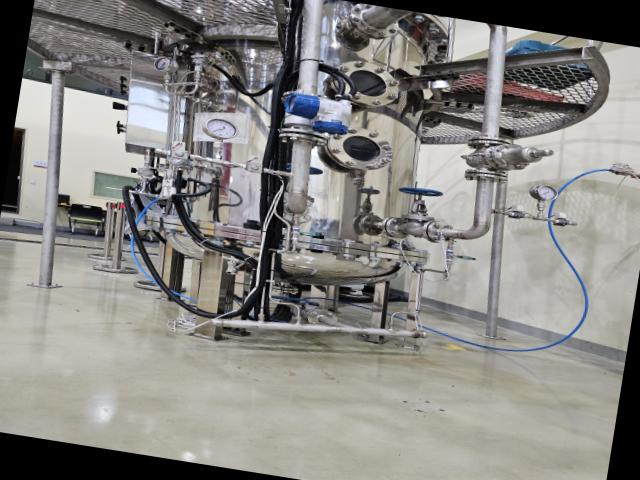Flange: (324, 56, 409, 116), (320, 122, 400, 178)
Flush Ring: (344, 3, 406, 42), (268, 190, 324, 228), (272, 123, 335, 150), (460, 132, 520, 155), (418, 216, 458, 248), (458, 165, 514, 187), (302, 306, 342, 330), (379, 214, 410, 242)
GasRegulator: (143, 39, 250, 114)
Nuts: (163, 146, 200, 166), (546, 211, 578, 232), (501, 206, 532, 226), (235, 158, 269, 176)
Piston Valve: (388, 178, 448, 222), (276, 159, 326, 180)
Pressure Gage: (194, 113, 238, 163), (524, 181, 564, 220)
